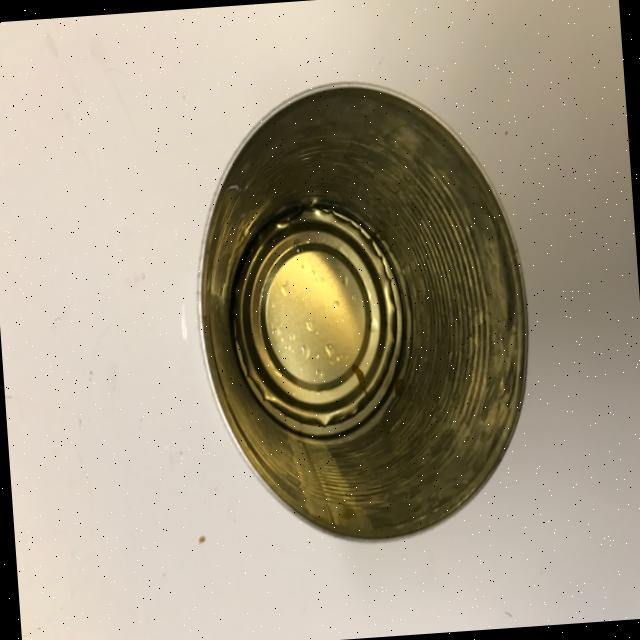metal: (182, 68, 542, 552)
